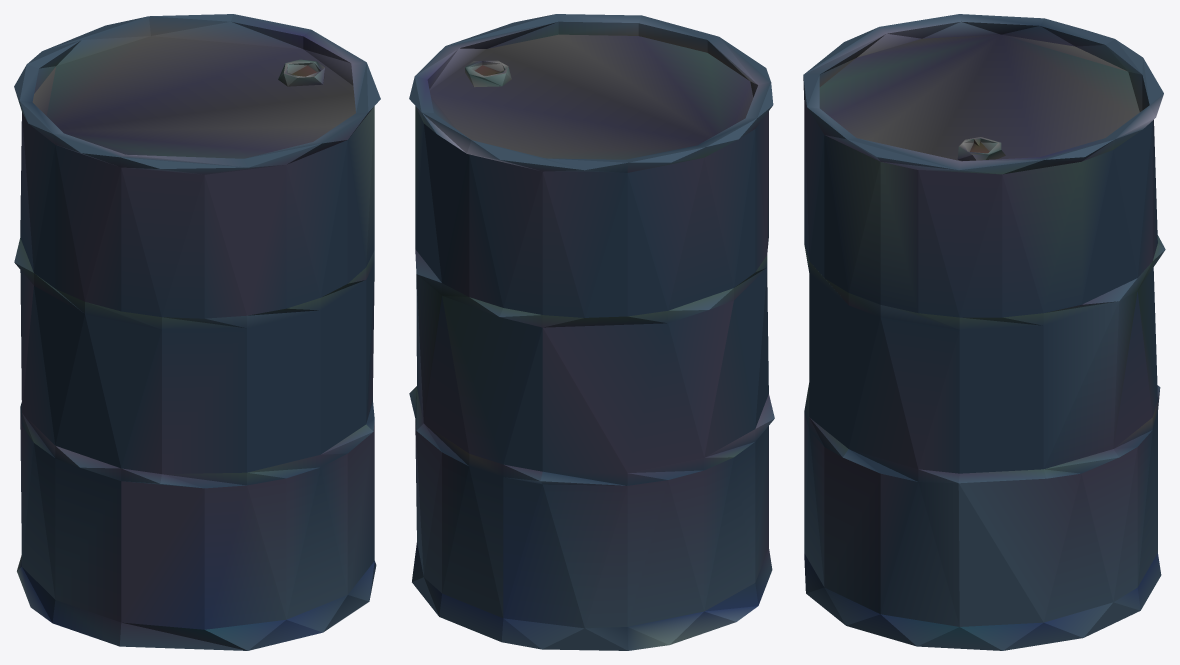
The model's file is barrel_03.glb.
3 renders of one model, left to right at view 1: azimuth 30°, elevation 25°; view 2: azimuth 150°, elevation 25°; view 3: azimuth 270°, elevation 25°, orthographic.
Visible parts, largest first — view 1: barrel_03; view 2: barrel_03; view 3: barrel_03.
Boxes of the visible parts, x1,y1,x2,y2 form: barrel_03: (14, 14, 380, 650); barrel_03: (409, 14, 774, 650); barrel_03: (803, 14, 1165, 650).
Bounding box in the file's own units: 0.3 × 0.4422 × 0.2978.
